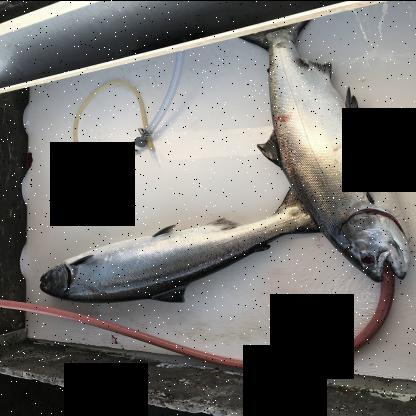fish: (236, 16, 414, 284), (35, 175, 327, 309)
